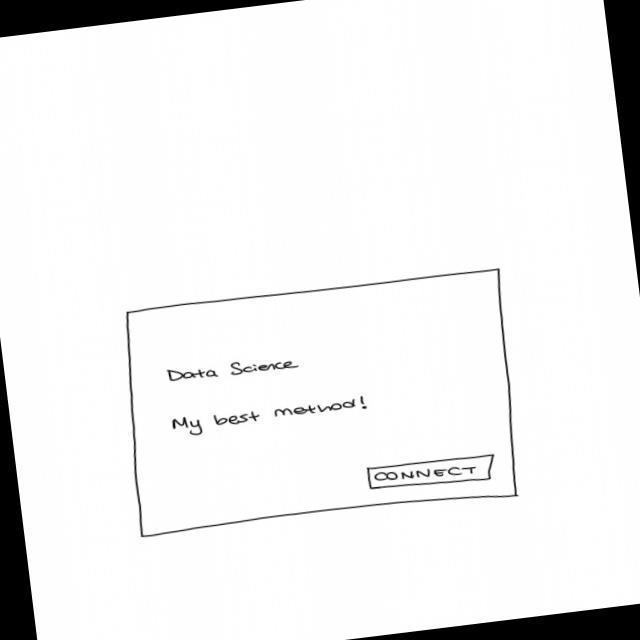button: (362, 449, 503, 497)
container: (110, 261, 533, 548)
label: (164, 390, 379, 443), (158, 346, 308, 391)
